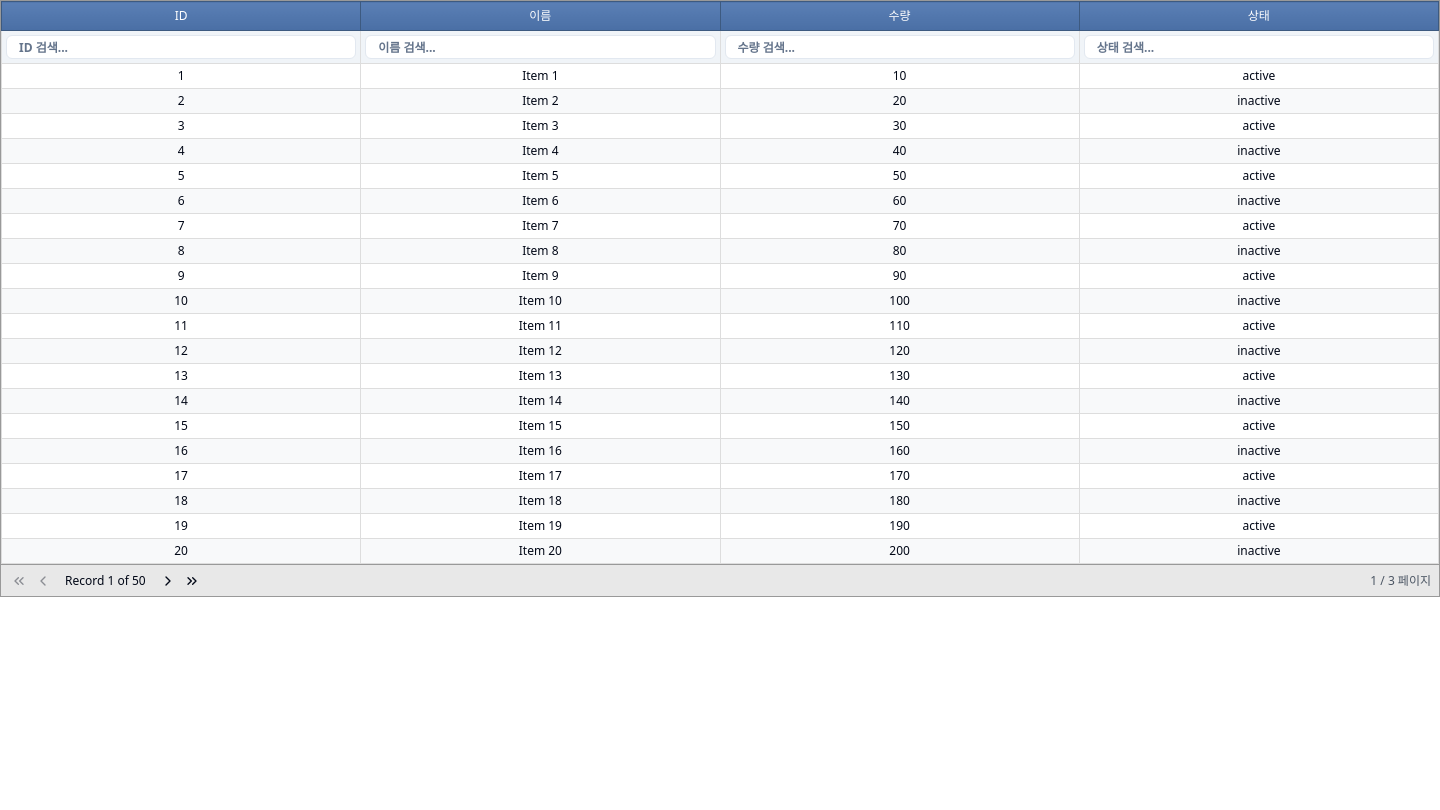
Test: ERPTable 컬럼 필터링 › 텍스트 컬럼 필터 입력 시 데이터가 필터링되어야 함
이름 필터 입력
Type "Item 1" into the field with placeholder "이름 검색..." at (540, 47), box [365,35,716,59]
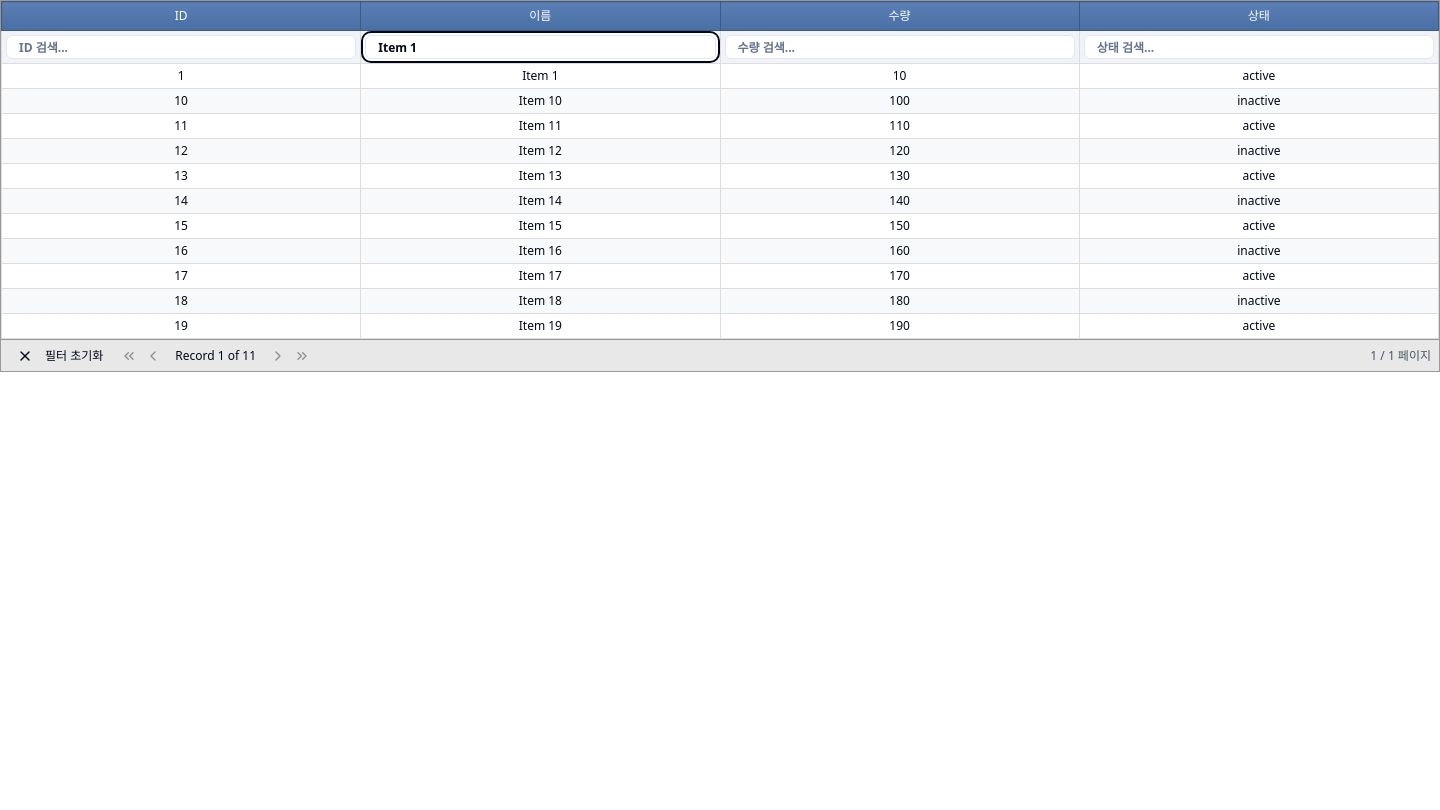
Expected: the text "Item 1" is shown, [361,64,720,88]
Expected: the text "Item 2" is gone
